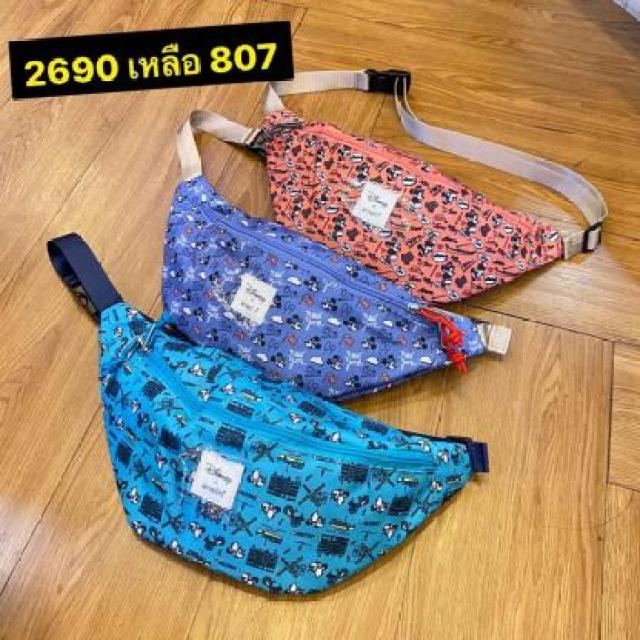Bag: (18, 204, 514, 613), (127, 82, 535, 409), (241, 24, 630, 311)
